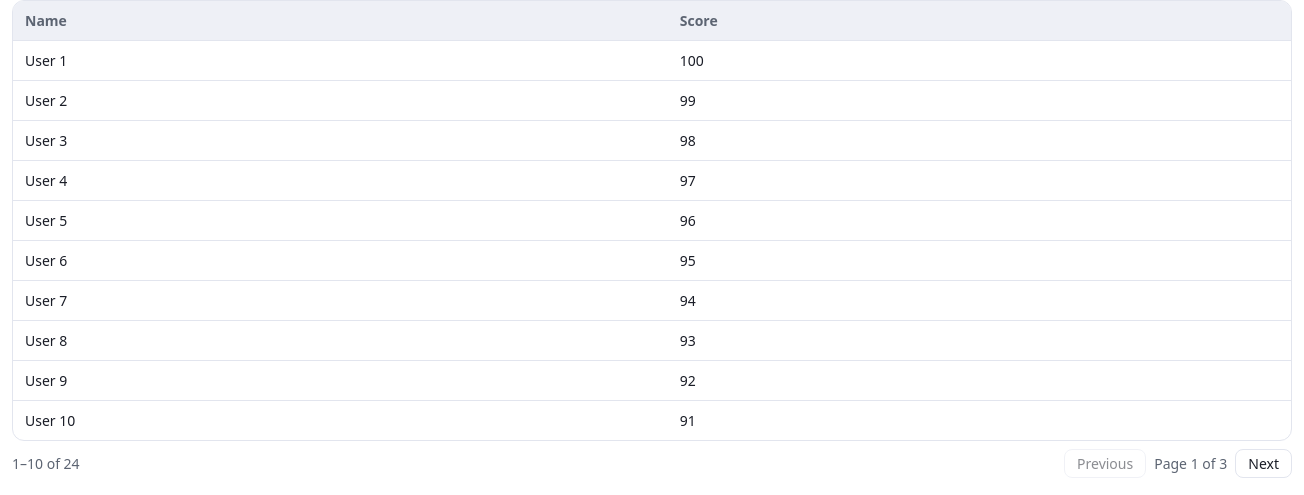
DataGrid › sorts columns ascending and descending
This screenshot has width=1304, height=495.
What coordinates should you click on to do the following:
click the button "Score"
I would click on:
 (707, 20)
Its box is [680,11,734,30].
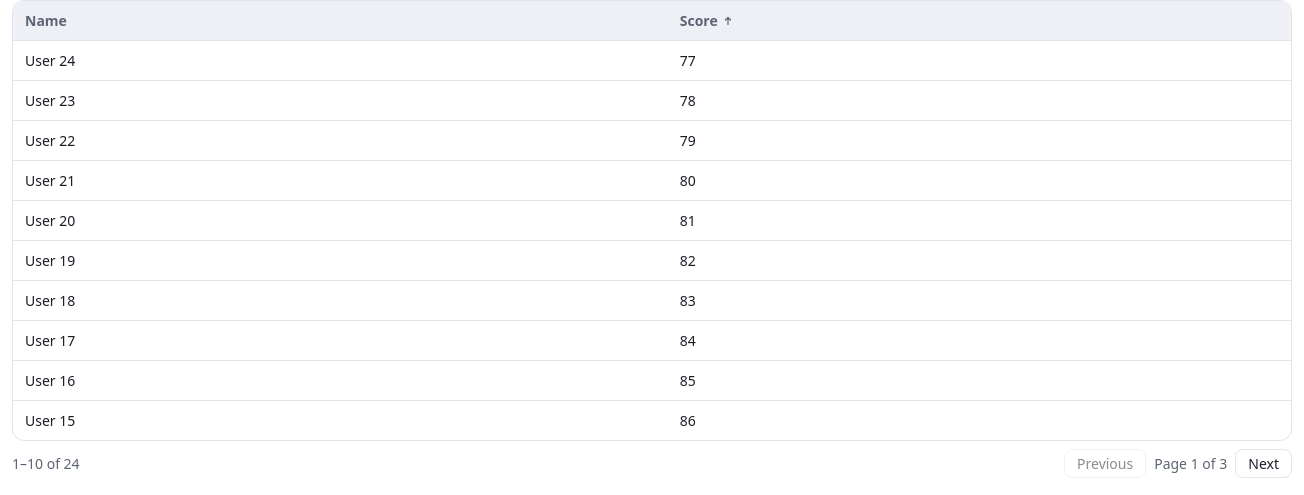
Check: the row "User 24 77" is shown, box [13,40,1291,80]
What coordinates should you click on to do the following:
click the button "Score"
I would click on:
 (707, 20)
Its box is [680,11,734,30].
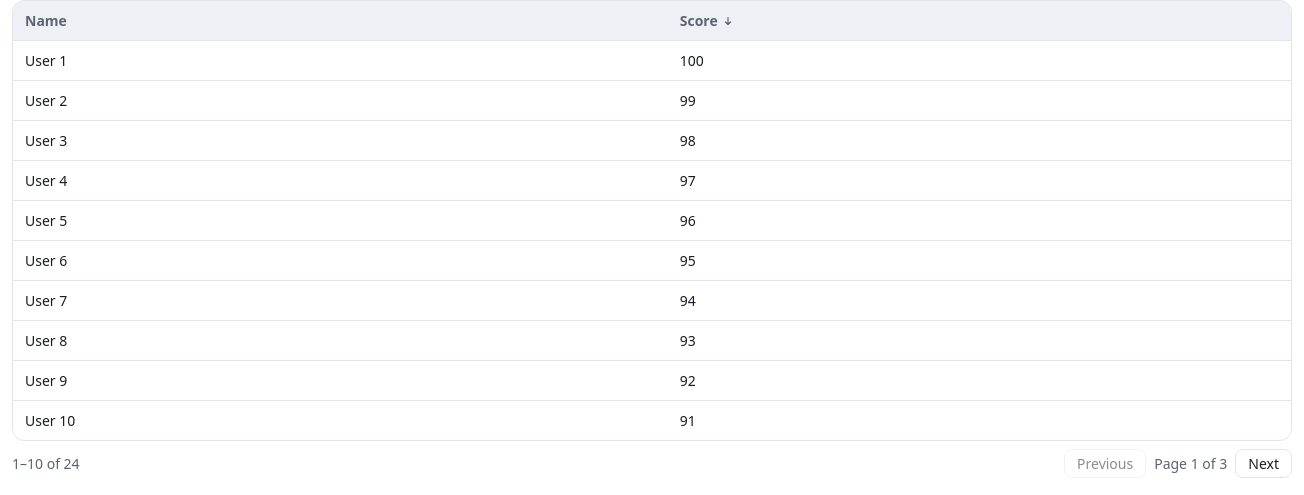
Check: the row "User 1 100" is shown, box [13,40,1291,80]
